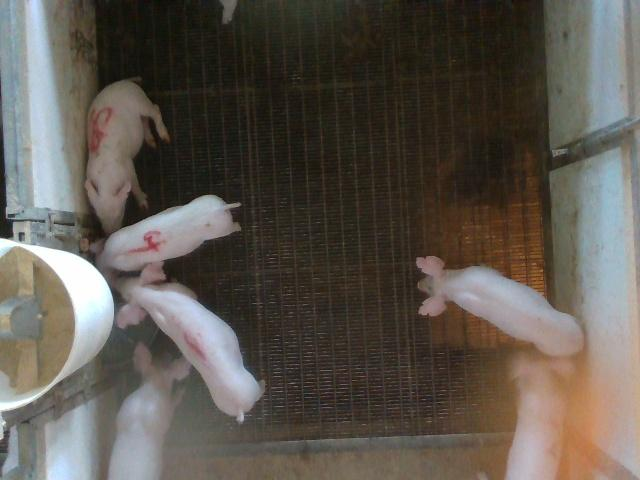pig-1: (108, 261, 264, 421)
pig-2: (505, 350, 574, 478)
pig-4: (99, 195, 241, 271)
pig-5: (85, 80, 170, 234)
